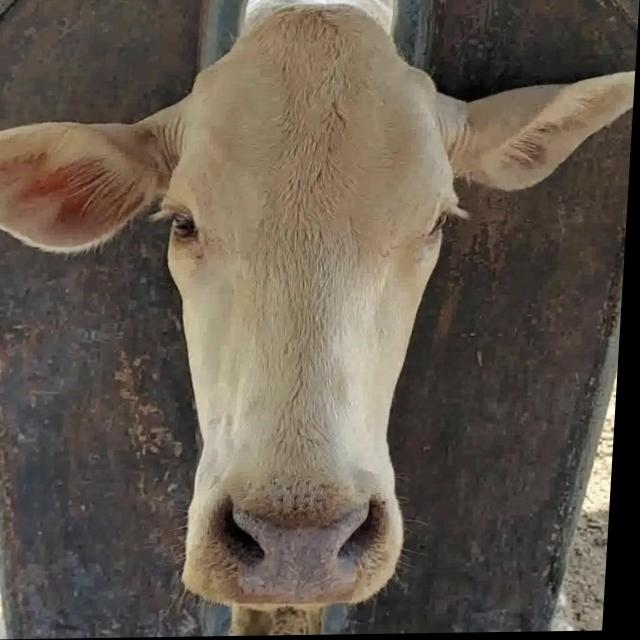cowFace: (151, 8, 455, 617)
